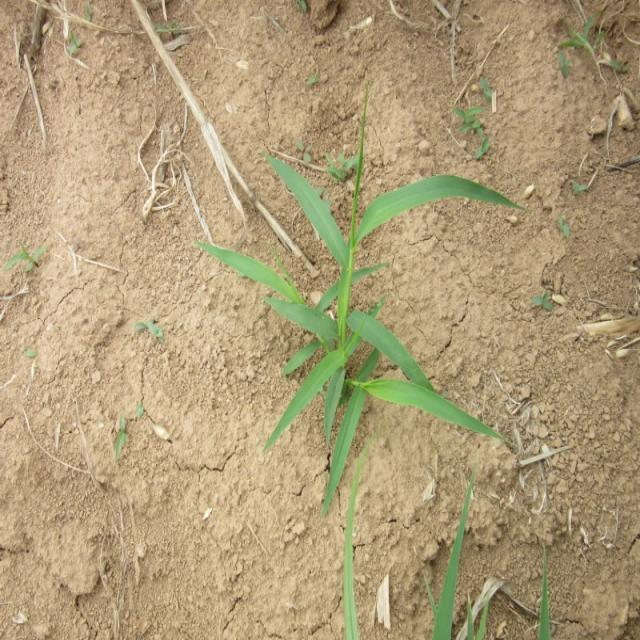bg: (194, 100, 521, 500)
